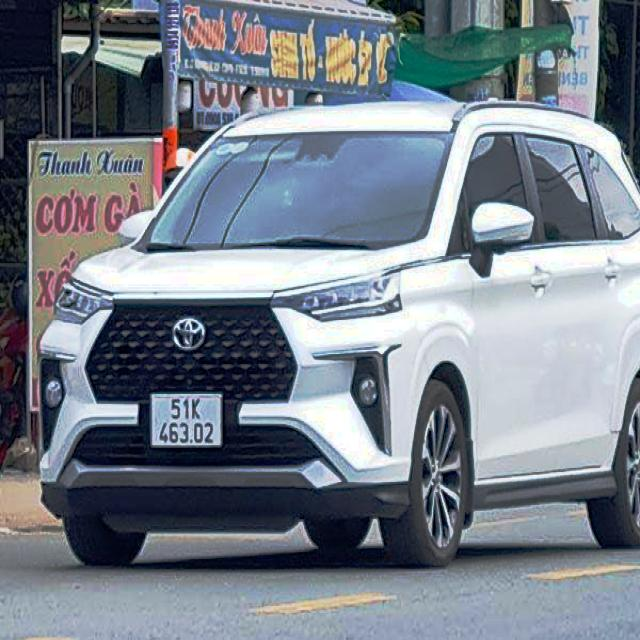license_plate: (149, 394, 223, 449)
